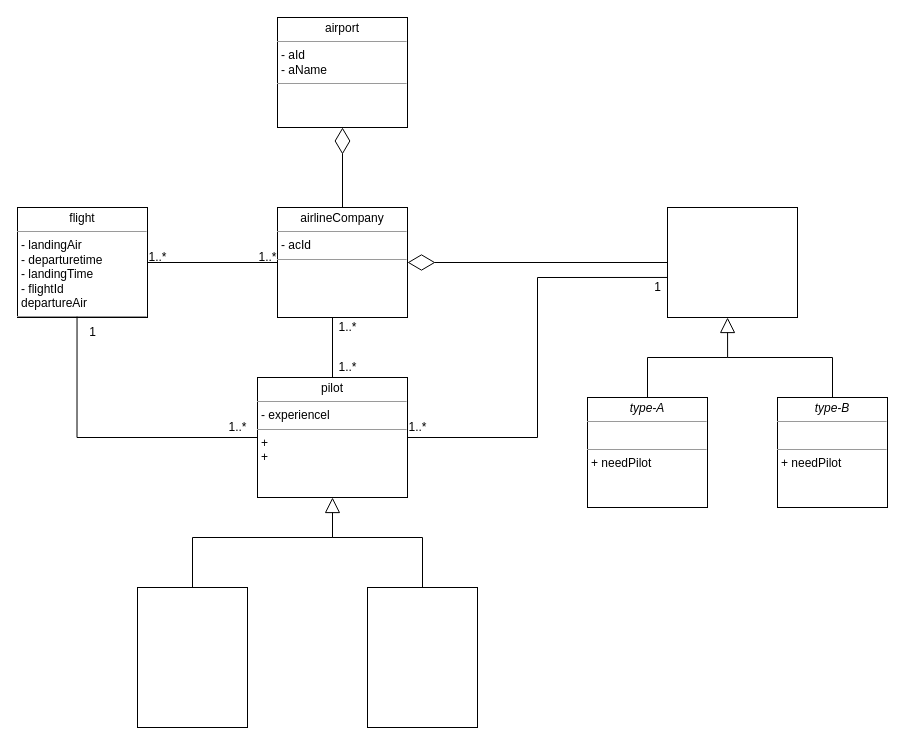
Image size: 905x745. Some labels were removed from this diagram. Here are the shapes that lost their labels. From the top down, the centre of each, then its label:
point (732, 262): airplane - airPlaneStatus + nPilot
point (192, 657): pilot
point (422, 657): co-pilot
